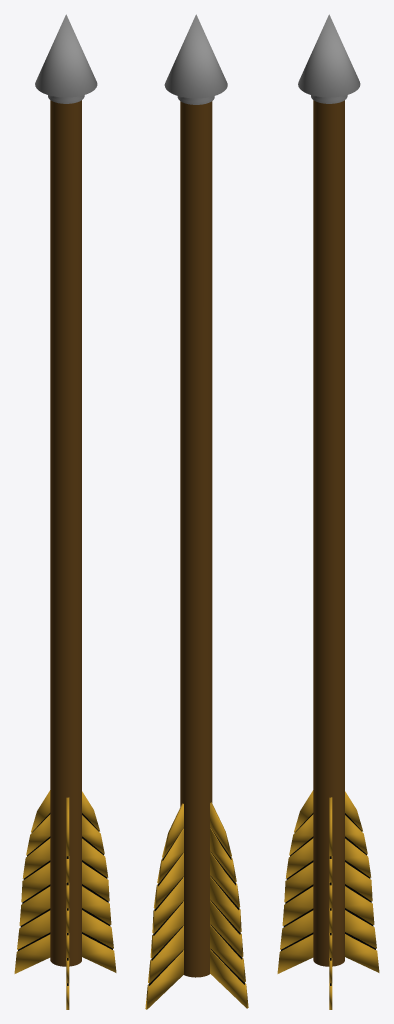
Rendered from Arrow.fbx.
3 views of the same model, side by side, from view 1: azimuth 30°, elevation 25°; view 2: azimuth 210°, elevation 25°; view 3: azimuth 270°, elevation 25° (orthographic).
Visible parts, largest first — view 1: Cylinder, Plane; view 2: Cylinder, Plane; view 3: Cylinder, Plane.
Part boxes in pixels (x1,y1,x2,y2): Cylinder: (35, 14, 97, 966); Plane: (14, 790, 116, 1009); Cylinder: (164, 14, 227, 977); Plane: (145, 802, 248, 1009); Cylinder: (298, 14, 360, 966); Plane: (277, 790, 379, 1009).
Bounding box in the file's own units: 21.65 × 259 × 24.63.
